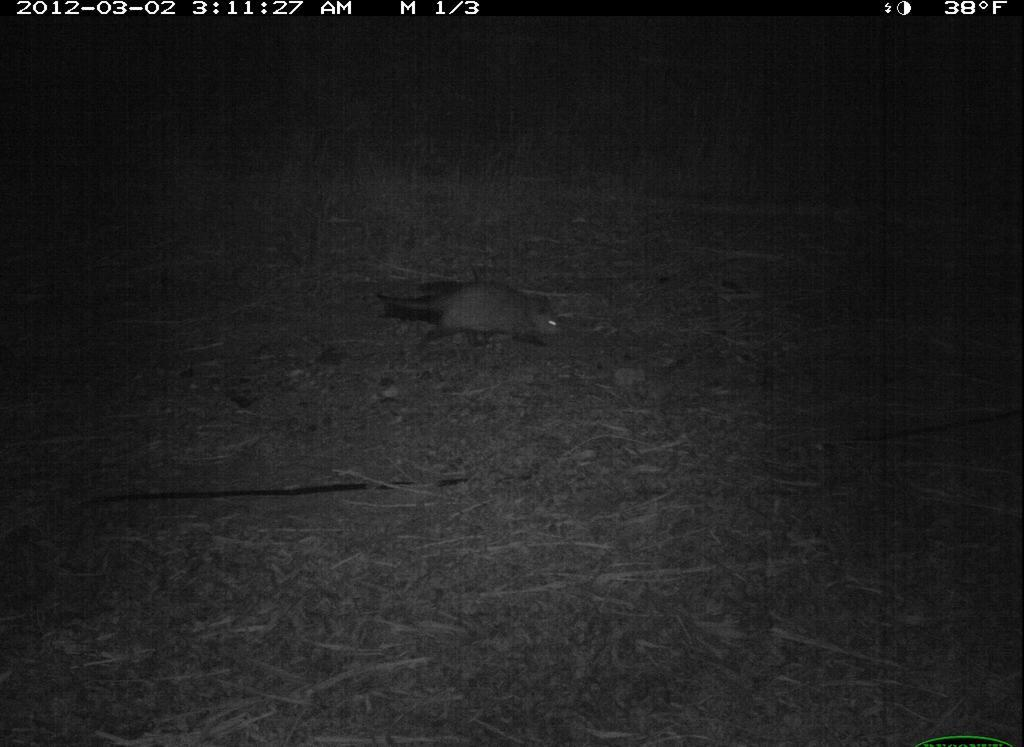opossum: (367, 267, 583, 370)
